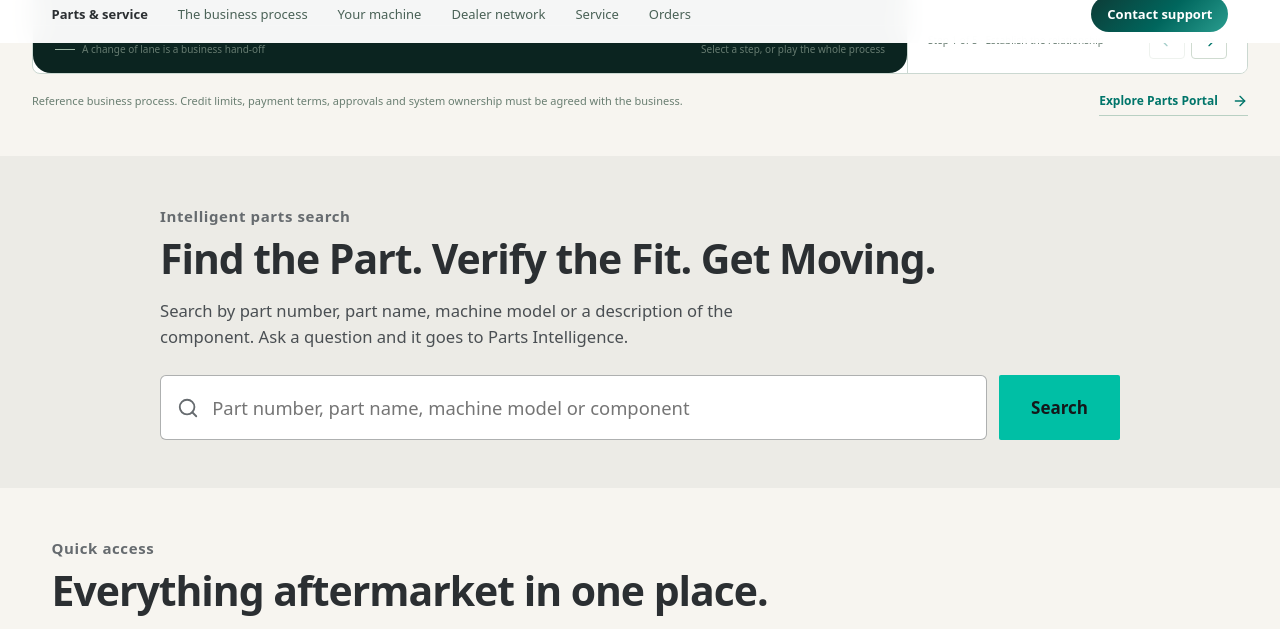
Parts & Services page › sends a question to Parts Intelligence instead of the part search
The width and height of the screenshot is (1280, 629).
(page scrolled)
Type "Which machines use this?" into the field named "Search parts" at (574, 408), box [160,375,987,440]
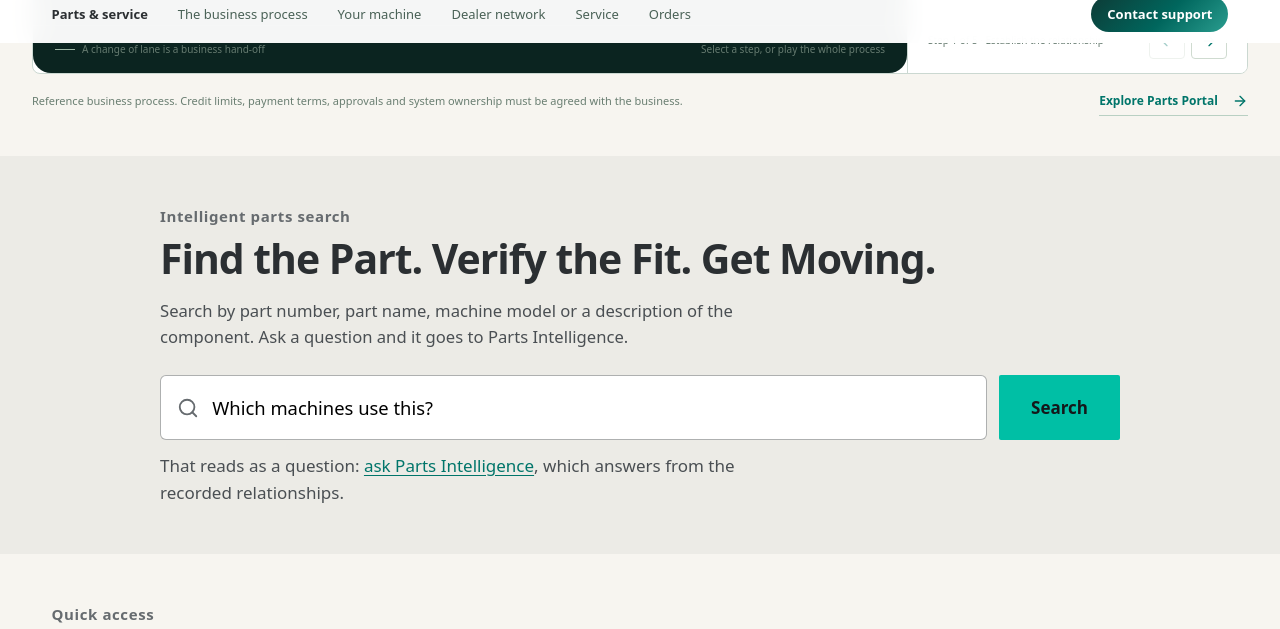
Now the text "That reads as a question" is shown, box [160,454,360,477]
